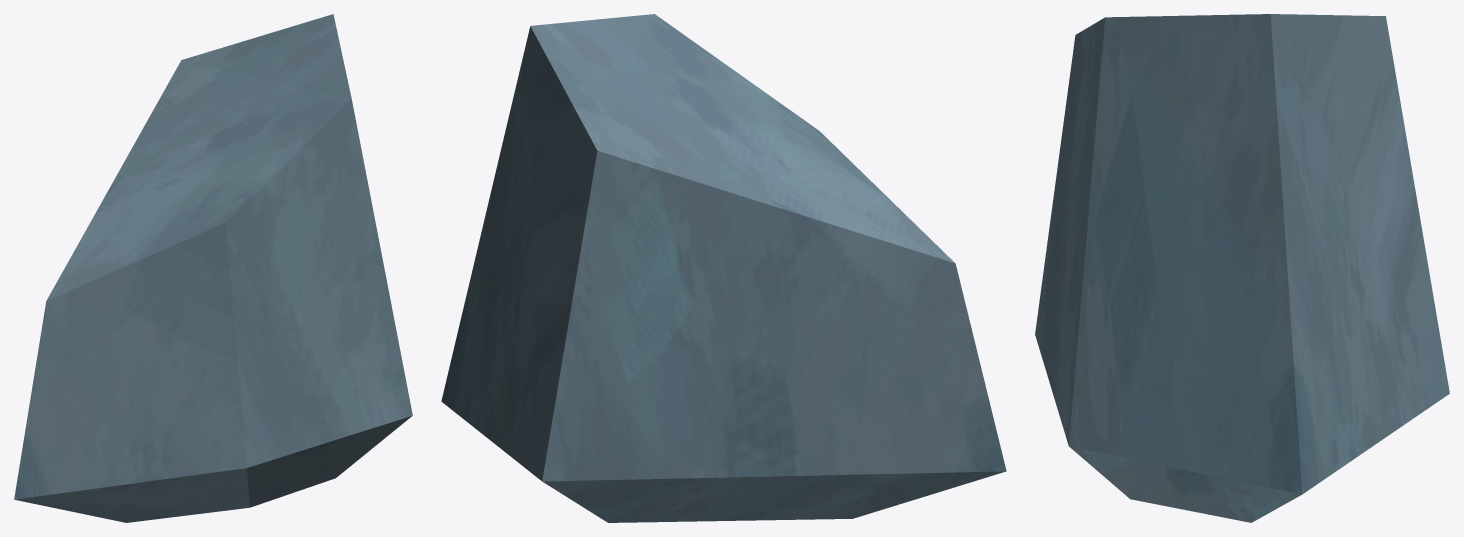
The model's file is stone11.fbx.
The picture shows the model from 3 angles, left to right: view 1: azimuth 30°, elevation 25°; view 2: azimuth 150°, elevation 25°; view 3: azimuth 270°, elevation 25°; orthographic projection. The views are drawn at different scales.
Visible parts, largest first — view 1: stone11; view 2: stone11; view 3: stone11.
Part boxes in pixels (<box>): stone11: <box>14,14,412,522</box>; stone11: <box>441,14,1006,522</box>; stone11: <box>1035,14,1449,522</box>.
Size of the model in its own units: 675 by 606 by 433.
